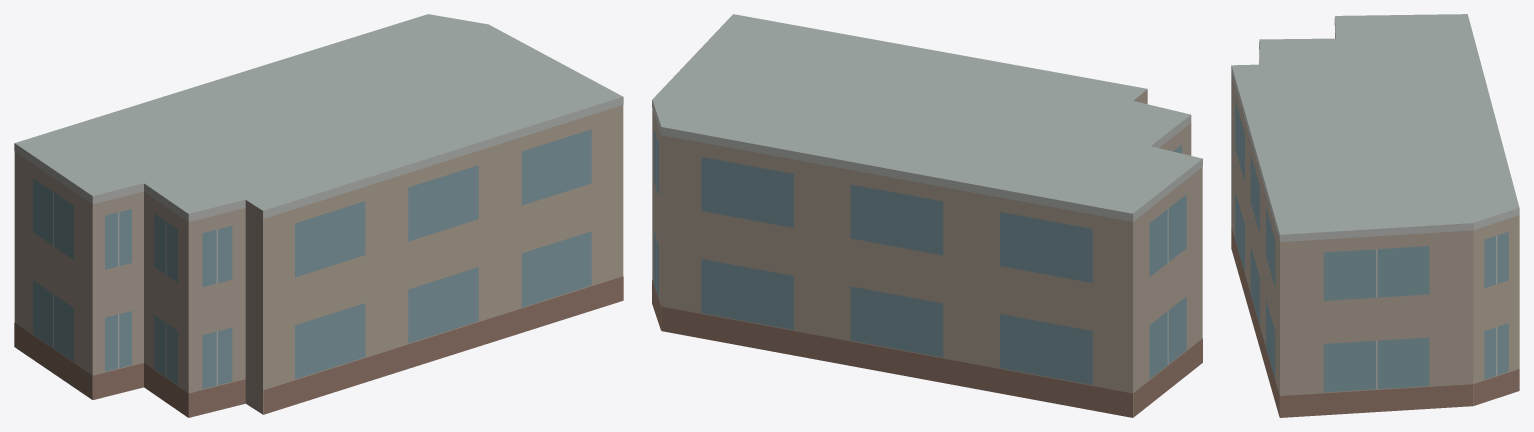
Rendered from survey-upis-32659634.glb.
The picture shows the model from 3 angles, left to right: view 1: azimuth 30°, elevation 25°; view 2: azimuth 150°, elevation 25°; view 3: azimuth 270°, elevation 25°; orthographic projection. The views are drawn at different scales.
Parts seen in each view (by area): view 1: survey-upis-32659634.tmp; view 2: survey-upis-32659634.tmp; view 3: survey-upis-32659634.tmp.
Boxes of the visible parts, box(x1,y1,x2,y2) form: survey-upis-32659634.tmp: box(14, 14, 623, 417); survey-upis-32659634.tmp: box(652, 14, 1202, 417); survey-upis-32659634.tmp: box(1231, 14, 1519, 417).
Bounding box in the file's own units: 15.8 × 6.1 × 8.71.
